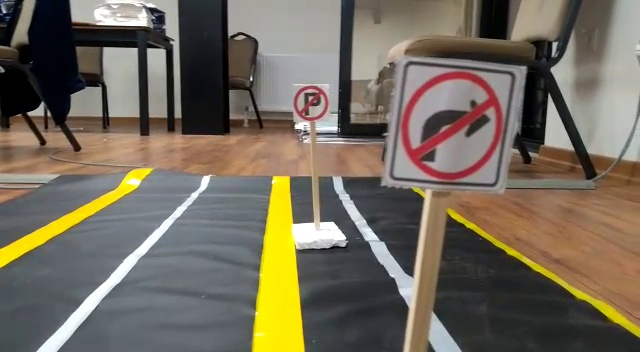park_yapilmaz: (290, 82, 332, 120)
saga_donulmez: (402, 68, 511, 183)
